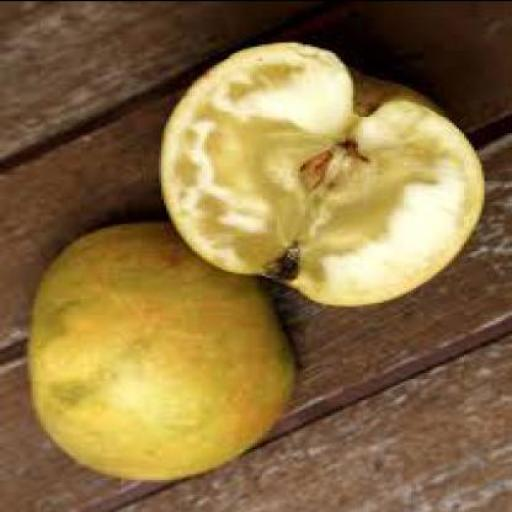biodegradable: (157, 35, 484, 303), (22, 215, 296, 479)
